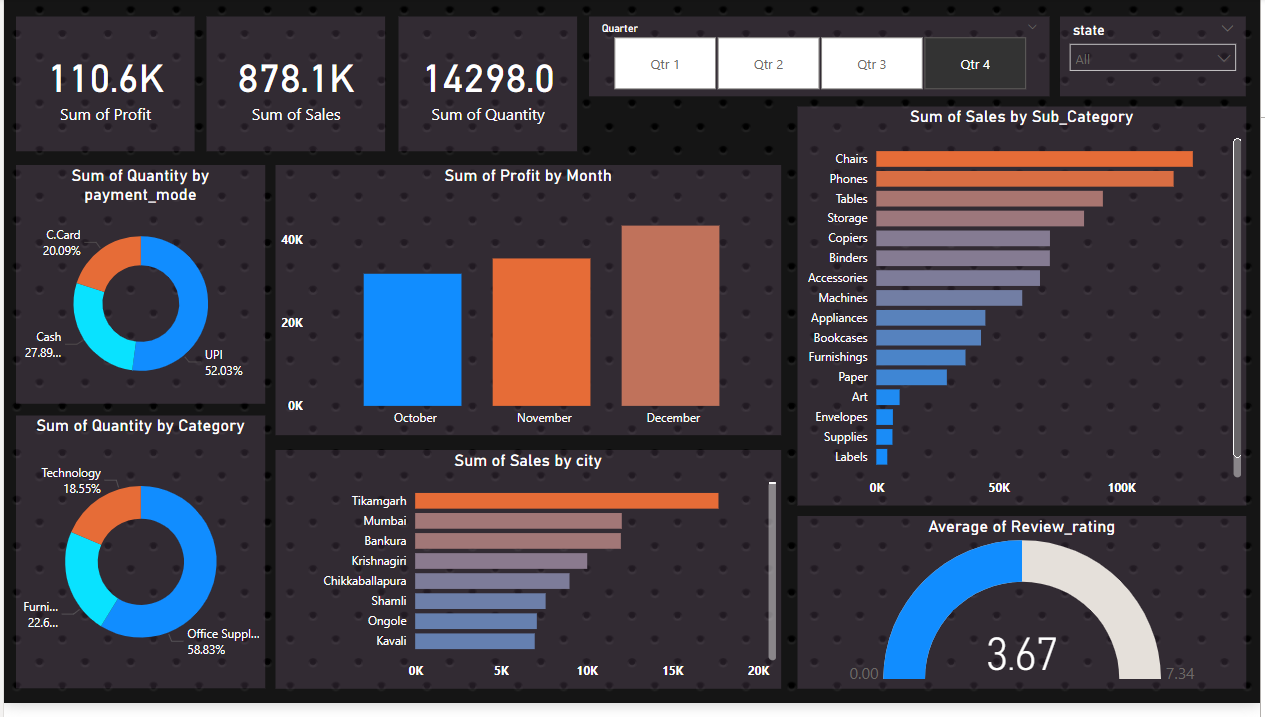

Layout of this report page (visuals, bound fields, positions):
{"tool":"powerbi","page":{"name":"Page 1","canvas":[1280,720],"ordinal":0},"visuals":[{"type":"barChart","fields":{"Category":["project_data.Sub_Category"],"Y":["Sum(project_data.Sales)"]},"box":[808.7,111.6,457.1,406.6],"z":0},{"type":"columnChart","fields":{"Category":["project_data.Order_Date.Variation.Date Hierarchy.Month"],"Y":["Sum(project_data.Profit)"]},"box":[276.7,171.2,515.2,275.2],"z":1000},{"type":"gauge","fields":{"Y":["Avg(project_data.Review_rating)"]},"box":[808.7,528.9,457.1,175.8],"z":2000},{"type":"barChart","fields":{"Y":["Sum(project_data.Sales)"],"Category":["project_data.city"]},"box":[276.7,461.7,515.2,243.1],"z":3000},{"type":"donutChart","fields":{"Category":["project_data.Category"],"Y":["Sum(project_data.Quantity)"]},"box":[12.2,426.5,253.8,278.2],"z":4000},{"type":"donutChart","fields":{"Y":["Sum(project_data.Quantity)"],"Category":["project_data.payment_mode"]},"box":[12.2,171.2,253.8,243.1],"z":5000},{"type":"card","fields":{"Values":["Sum(project_data.Profit)"]},"box":[12.2,19.9,181.9,137.6],"z":6000},{"type":"card","fields":{"Values":["Sum(project_data.Sales)"]},"box":[206.4,19.9,181.9,137.6],"z":7000},{"type":"card","fields":{"Values":["Sum(project_data.Quantity)"]},"box":[402,19.9,181.9,137.6],"z":8000},{"type":"slicer","fields":{"Values":["project_data.Order_Date.Variation.Date Hierarchy.Quarter"]},"box":[596.2,19.9,469.3,81],"z":9000},{"type":"slicer","fields":{"Values":["project_data.state"]},"box":[1076.2,19.9,189.6,81],"z":10000}]}

Visuals, with their boxes in screenshot pixels (x1, y1, x2, y2), scaled from the page's 1280x720 canvas onto the 1265x717 screenshot:
barChart - project_data.Sub_Category x Sum(project_data.Sales): (799,111,1251,516)
columnChart - project_data.Order_Date.Variation.Date Hierarchy.Month x Sum(project_data.Profit): (273,170,783,445)
gauge - Avg(project_data.Review_rating): (799,527,1251,702)
barChart - Sum(project_data.Sales) x project_data.city: (273,460,783,702)
donutChart - project_data.Category x Sum(project_data.Quantity): (12,425,263,702)
donutChart - Sum(project_data.Quantity) x project_data.payment_mode: (12,170,263,413)
card - Sum(project_data.Profit): (12,20,192,157)
card - Sum(project_data.Sales): (204,20,384,157)
card - Sum(project_data.Quantity): (397,20,577,157)
slicer - project_data.Order_Date.Variation.Date Hierarchy.Quarter: (589,20,1053,100)
slicer - project_data.state: (1064,20,1251,100)
